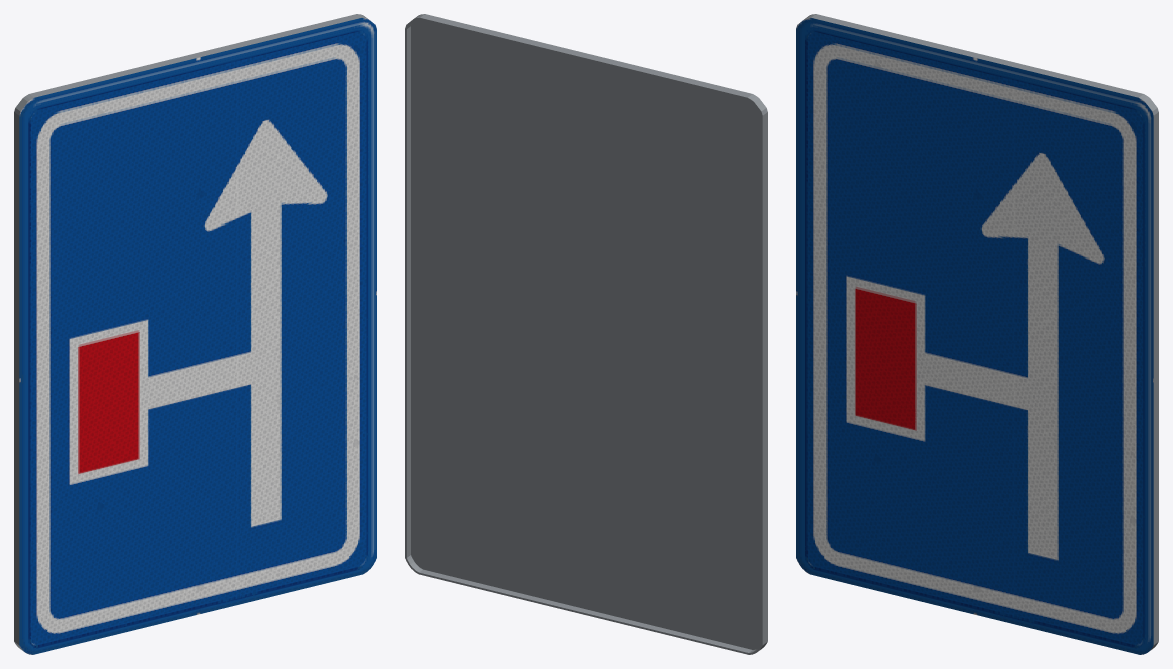
3 renders of one model, left to right at view 1: azimuth 30°, elevation 25°; view 2: azimuth 150°, elevation 25°; view 3: azimuth 330°, elevation 25°, orthographic.
Parts seen in each view (by area): view 1: cat_9ab06e37eb6aad04; view 2: cat_9ab06e37eb6aad04; view 3: cat_9ab06e37eb6aad04.
Boxes of the visible parts, x1=… form: cat_9ab06e37eb6aad04: x1=14, y1=14, x2=376, y2=654; cat_9ab06e37eb6aad04: x1=405, y1=14, x2=767, y2=654; cat_9ab06e37eb6aad04: x1=796, y1=14, x2=1158, y2=654.
Size of the model in its own units: 0.6 by 0.015 by 0.8927.
2 materials, 1 textured.
